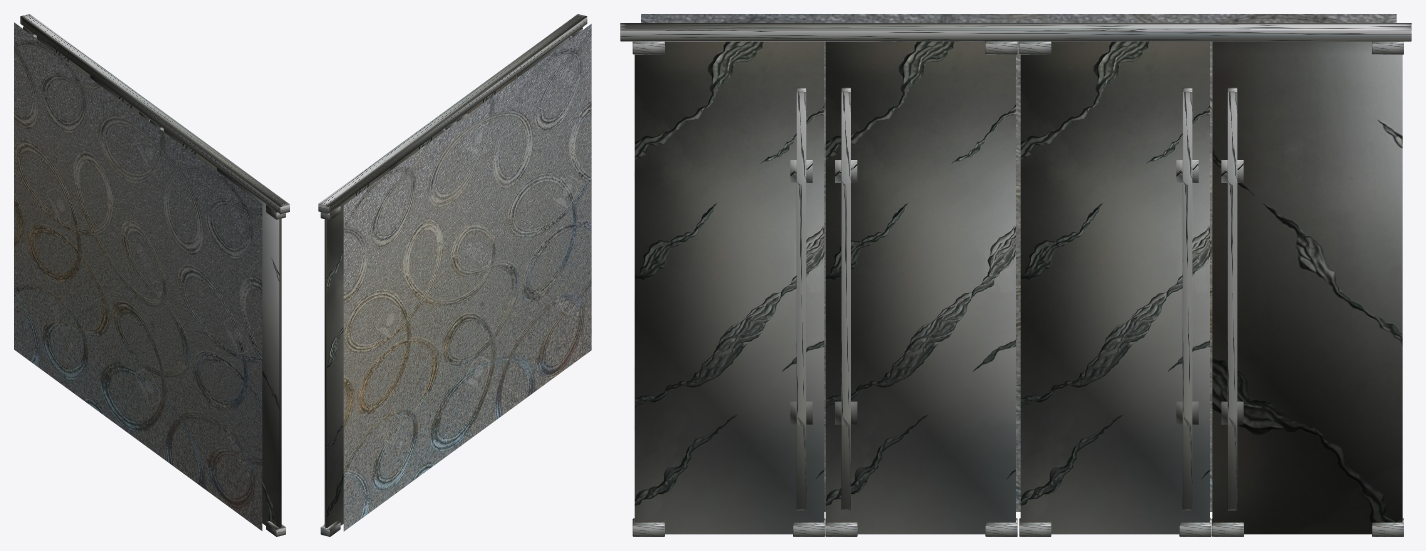
The model's file is shopgate.glb.
3 views of the same model, side by side, from view 1: azimuth 30°, elevation 25°; view 2: azimuth 150°, elevation 25°; view 3: azimuth 270°, elevation 25° (orthographic). The views are drawn at different scales.
Visible parts, largest first — view 1: Object004.003; view 2: Object004.003; view 3: Object004.003.
Boxes of the visible parts, left/top/right/bottom form: Object004.003: left=14, top=14, right=289, bottom=536; Object004.003: left=318, top=14, right=591, bottom=536; Object004.003: left=620, top=14, right=1411, bottom=536.
Size of the model in its own units: 0.421 by 4.49 by 6.35.
2 materials, 2 textured.
